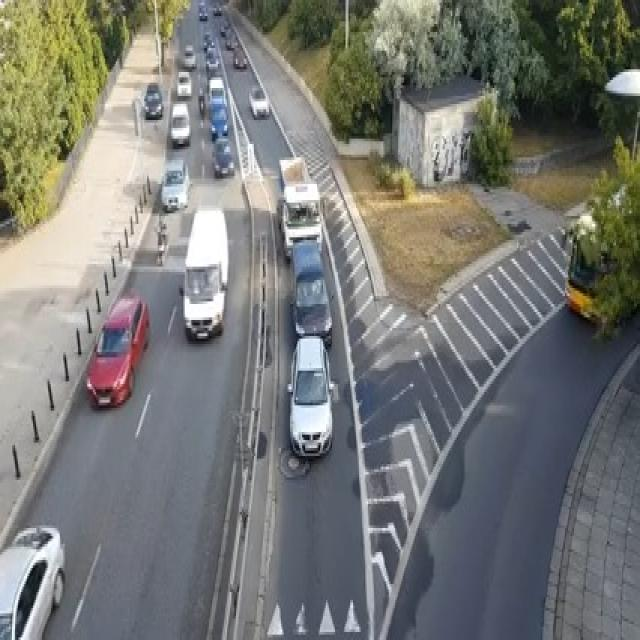car: (0, 509, 63, 640), (84, 290, 147, 418), (290, 342, 330, 459), (292, 239, 335, 338), (162, 152, 184, 218), (250, 77, 274, 128), (210, 132, 234, 178), (144, 76, 162, 124), (211, 100, 233, 134), (172, 108, 192, 144), (196, 0, 212, 27), (178, 72, 191, 104), (208, 76, 226, 99), (207, 43, 221, 71), (184, 46, 198, 71), (232, 46, 247, 69)
truck: (180, 209, 229, 357), (277, 156, 326, 247)
